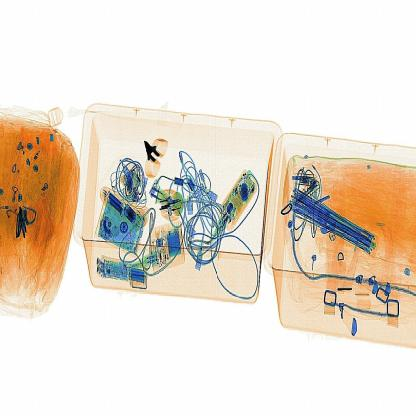gun: (137, 114, 175, 190)
